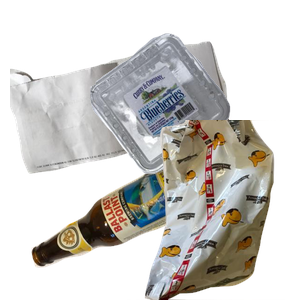glass: (29, 150, 238, 300)
paper: (10, 39, 236, 205)
plastic: (88, 31, 300, 198)
trash: (127, 120, 300, 300)
